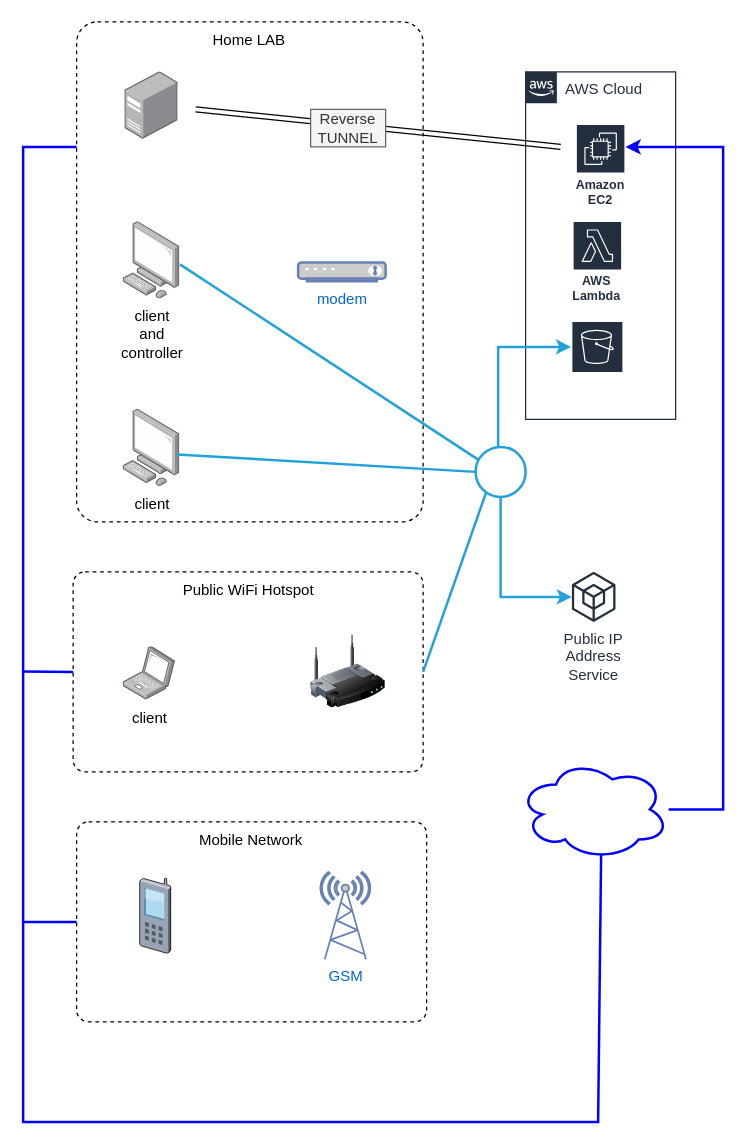
Image size: 756x1146. Some labels were removed from this diagram. Each missing label, with the box of its shape:
Amazon S3: (570, 319, 624, 414)
controller (Private System): (124, 71, 178, 139)
Internet: (517, 758, 669, 860)
unmanaged device: (139, 878, 170, 952)
WiFi Hotspot: (310, 634, 385, 709)
